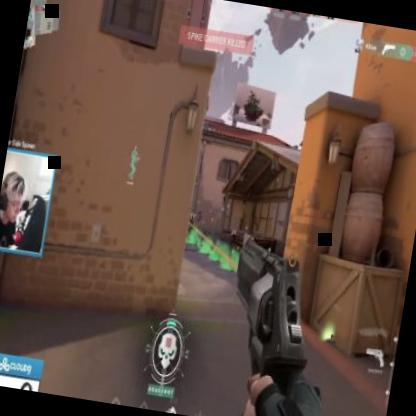enemy: (186, 208, 196, 236)
enemy_head: (192, 209, 194, 214)
